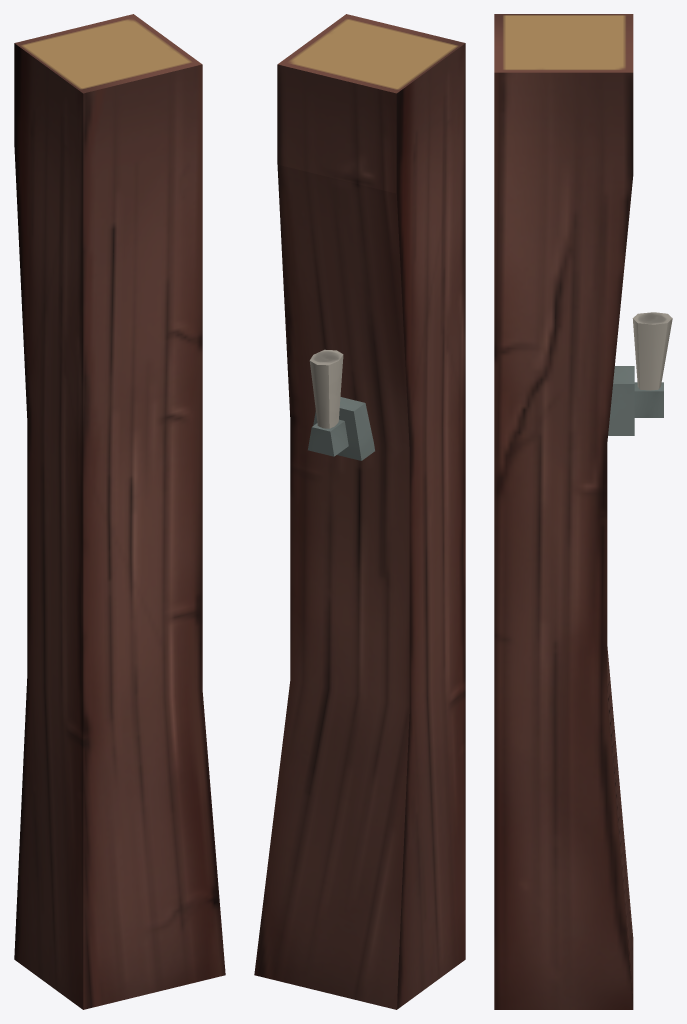
Rendered from Props_Pillar.fbx.
3 renders of one model, left to right at view 1: azimuth 30°, elevation 25°; view 2: azimuth 150°, elevation 25°; view 3: azimuth 270°, elevation 25°, orthographic.
Parts seen in each view (by area): view 1: Pillar; view 2: Pillar; view 3: Pillar.
Boxes of the visible parts, x1=… form: Pillar: x1=14, y1=14, x2=225, y2=1009; Pillar: x1=254, y1=14, x2=465, y2=1009; Pillar: x1=494, y1=14, x2=672, y2=1009.
Bounding box in the file's own units: 0.7252 × 4.46 × 0.7787.
